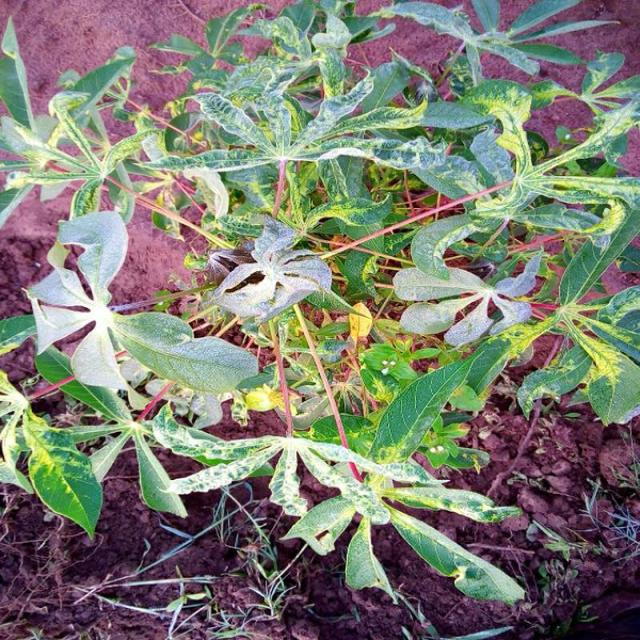cassava leaf: (2, 1, 638, 616), (210, 214, 334, 326), (22, 405, 105, 540)
